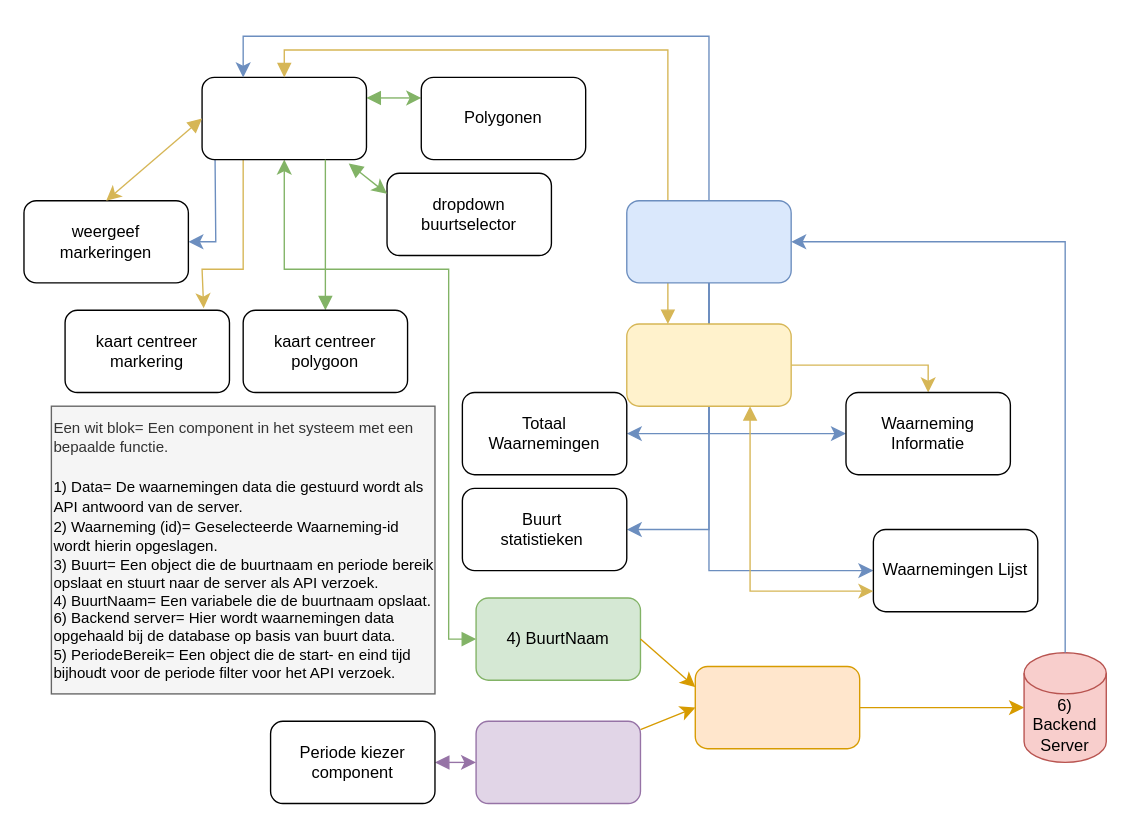
The diagram is 1130 pixels wide and 827 high, and some of its shapes have lost their labels. The shapes that lost their labels are listed below. From the top down, each one's centre as x and y in pixels, then its label:
At (283,118): "Leaflet Polygonen Kaart".
At (708,241): "1) data".
At (708,364): "2) waarneming (id)".
At (777,707): "3) Buurt".
At (557,762): "5) PeriodeBereik".
